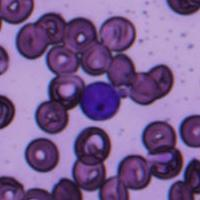L: (80, 80, 123, 121)
